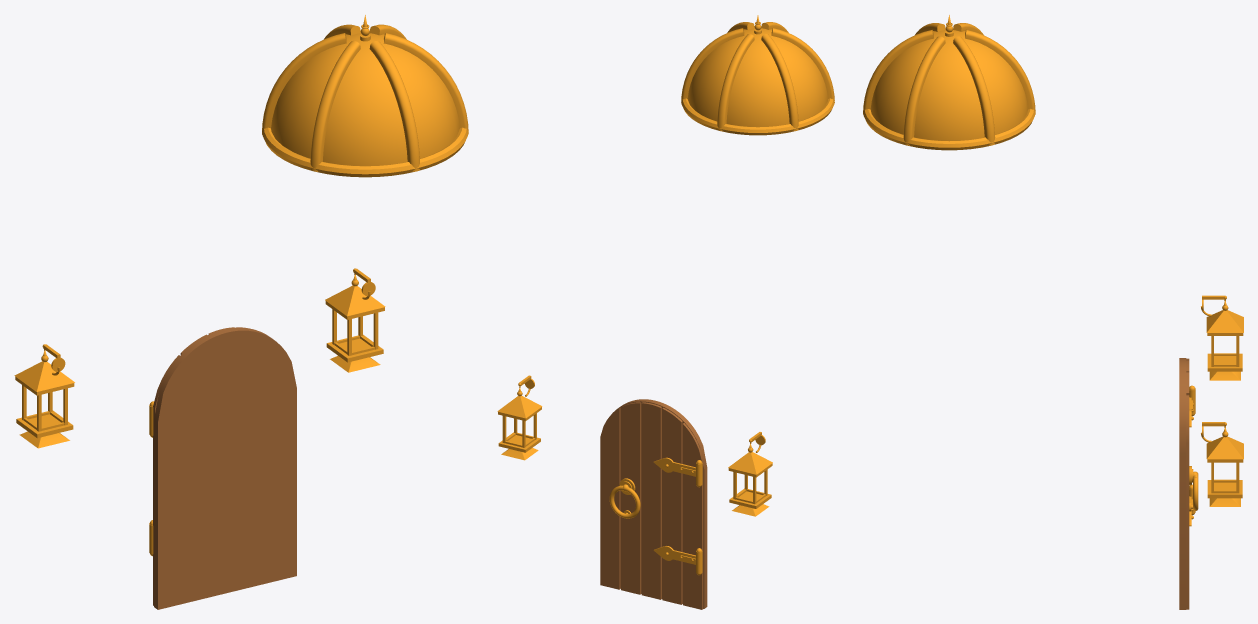
File: HaloDomeHouse_01_ornaments.glb
3 views of the same model, side by side, from view 1: azimuth 30°, elevation 25°; view 2: azimuth 150°, elevation 25°; view 3: azimuth 270°, elevation 25° (orthographic). The views are drawn at different scales.
Parts seen in each view (by area): view 1: Orn_HaloDomeHouse_01_Leaf, Orn_HaloDomeHouse_01_CupolaDome, Orn_HaloDomeHouse_01_CupolaDome_Ribs, Orn_HaloDomeHouse_01_Lantern1, Orn_HaloDomeHouse_01_Lantern0; view 2: Orn_HaloDomeHouse_01_Leaf, Orn_HaloDomeHouse_01_CupolaDome, Orn_HaloDomeHouse_01_CupolaDome_Ribs, Orn_HaloDomeHouse_01_Lantern1, Orn_HaloDomeHouse_01_Lantern0, Orn_HaloDomeHouse_01_Hinge1, Orn_HaloDomeHouse_01_Hinge0, Orn_HaloDomeHouse_01_Knocker; view 3: Orn_HaloDomeHouse_01_CupolaDome, Orn_HaloDomeHouse_01_CupolaDome_Ribs, Orn_HaloDomeHouse_01_Leaf, Orn_HaloDomeHouse_01_Lantern1, Orn_HaloDomeHouse_01_Lantern0.
Boxes of the visible parts, x1,y1,x2,y2 form: Orn_HaloDomeHouse_01_Leaf: (153,327,296,609); Orn_HaloDomeHouse_01_CupolaDome: (262,15,468,177); Orn_HaloDomeHouse_01_CupolaDome_Ribs: (262,24,468,171); Orn_HaloDomeHouse_01_Lantern1: (325,268,385,372); Orn_HaloDomeHouse_01_Lantern0: (14,344,74,448); Orn_HaloDomeHouse_01_Leaf: (600,399,707,609); Orn_HaloDomeHouse_01_CupolaDome: (681,15,834,135); Orn_HaloDomeHouse_01_CupolaDome_Ribs: (681,22,834,131); Orn_HaloDomeHouse_01_Lantern1: (497,375,542,460); Orn_HaloDomeHouse_01_Lantern0: (728,432,772,516); Orn_HaloDomeHouse_01_Hinge1: (653,457,702,487); Orn_HaloDomeHouse_01_Hinge0: (653,546,702,575); Orn_HaloDomeHouse_01_Knocker: (609,478,640,518); Orn_HaloDomeHouse_01_CupolaDome: (863,15,1035,150); Orn_HaloDomeHouse_01_CupolaDome_Ribs: (863,23,1035,145); Orn_HaloDomeHouse_01_Leaf: (1179,358,1189,609); Orn_HaloDomeHouse_01_Lantern1: (1201,422,1243,506); Orn_HaloDomeHouse_01_Lantern0: (1201,295,1243,380).
Size of the model in its own units: 10.8 by 20.1 by 12.22.
